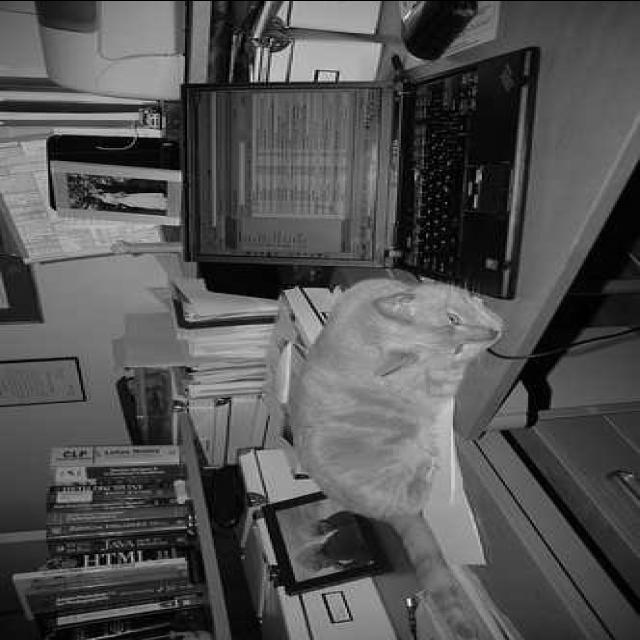laptop: (194, 67, 521, 290)
